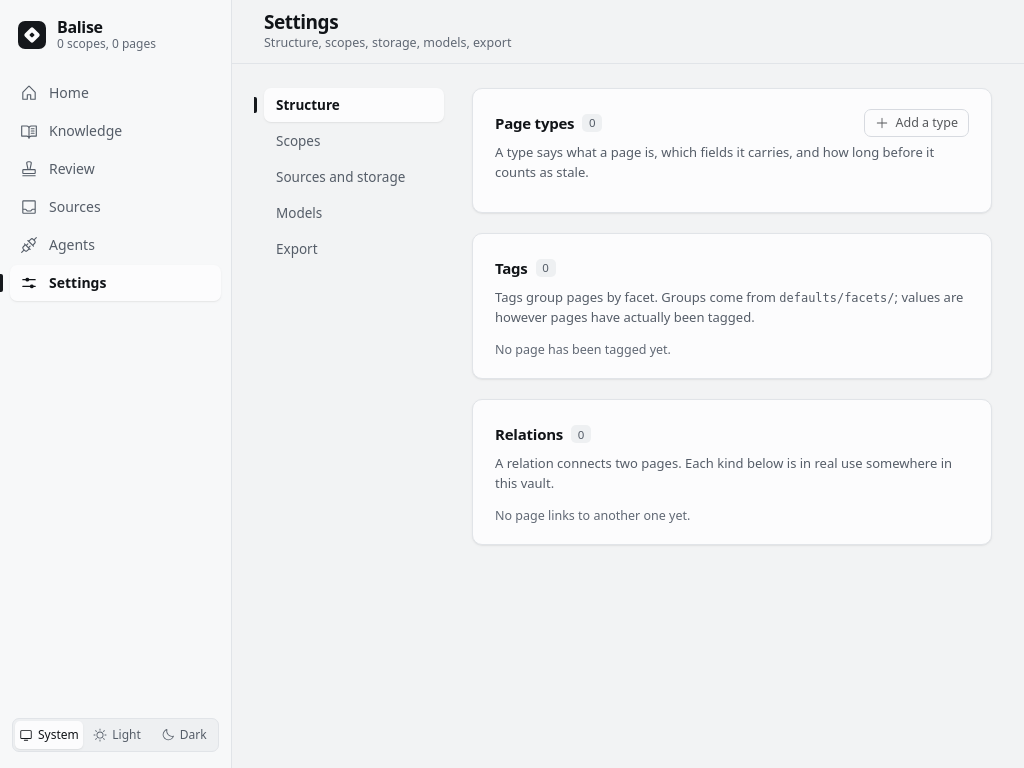
Scenario: AppShell › renders the Home briefing when Home is selected
Click the button "Home".
click(116, 93)  # box left=10, top=75, right=221, bottom=111
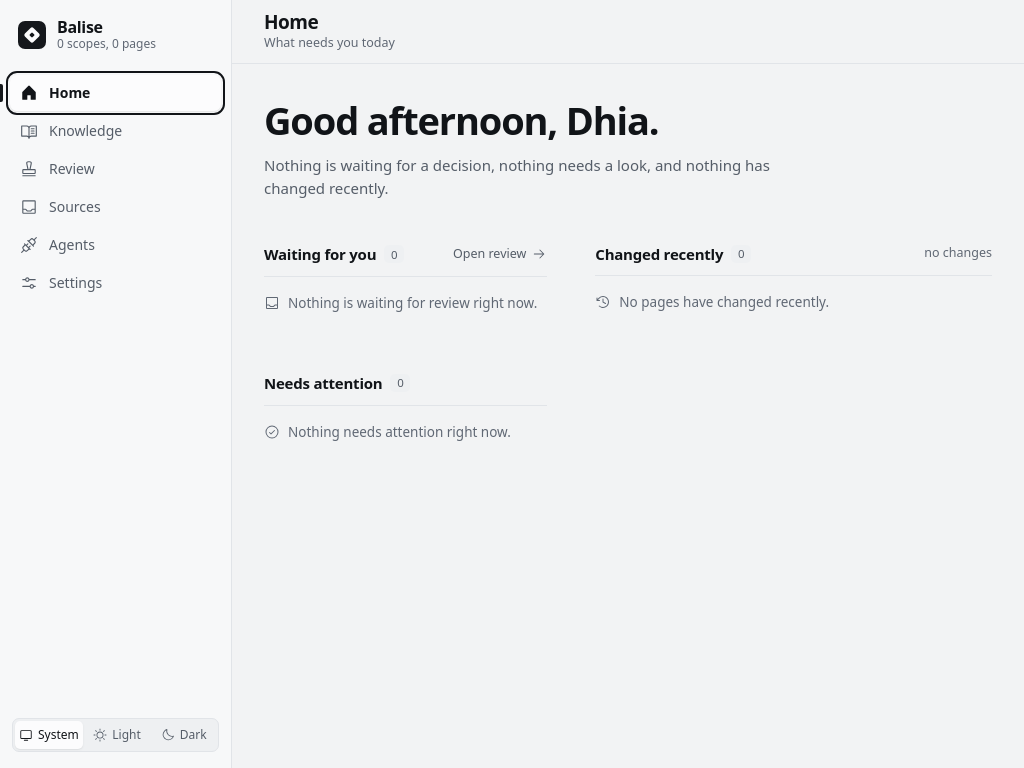
Result: the heading "Waiting for you" is shown at left=264, top=243, right=376, bottom=266
Result: the heading "Needs attention" is shown at left=264, top=372, right=382, bottom=394
Result: the heading "Changed recently" is shown at left=595, top=242, right=723, bottom=265
